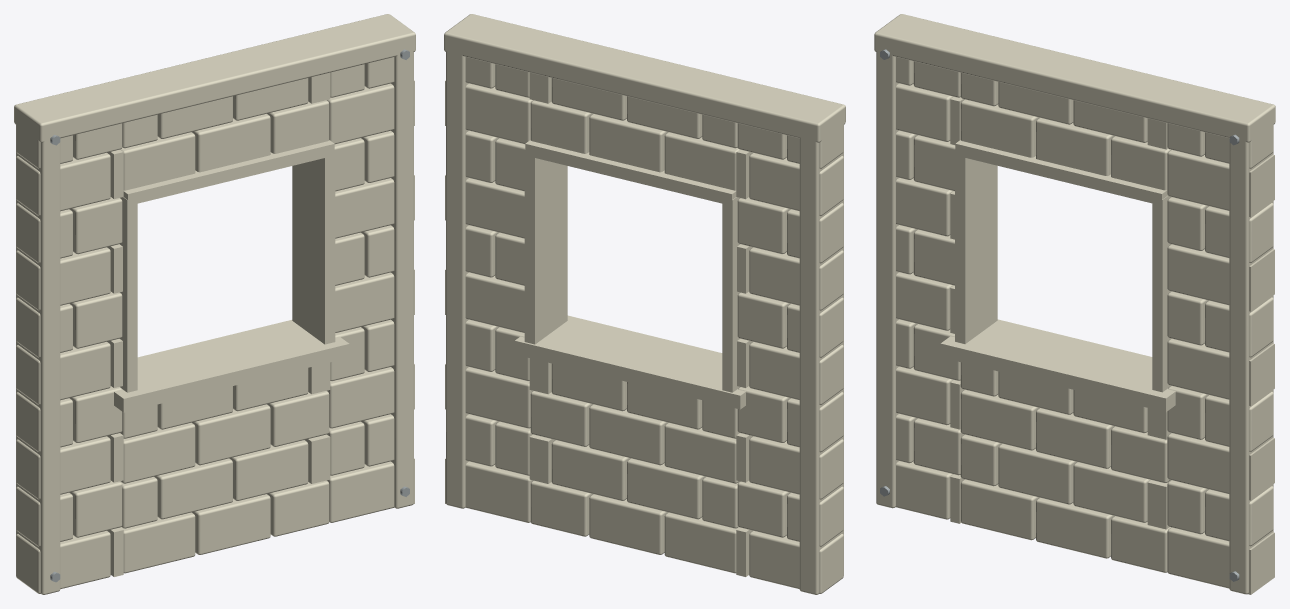
Rendered from rural-scavenging-settlements-stone-cottage-window-wall-4eb27df5__26466.glb.
3 views of the same model, side by side, from view 1: azimuth 30°, elevation 25°; view 2: azimuth 150°, elevation 25°; view 3: azimuth 330°, elevation 25° (orthographic).
Visible parts, largest first — view 1: stone-cottage-window-wall; view 2: stone-cottage-window-wall; view 3: stone-cottage-window-wall.
Boxes of the visible parts, x1,y1,x2,y2 form: stone-cottage-window-wall: (14, 14, 415, 594); stone-cottage-window-wall: (444, 14, 845, 594); stone-cottage-window-wall: (874, 14, 1275, 594).
Bounding box in the file's own units: 2 × 2.4 × 0.3601.
